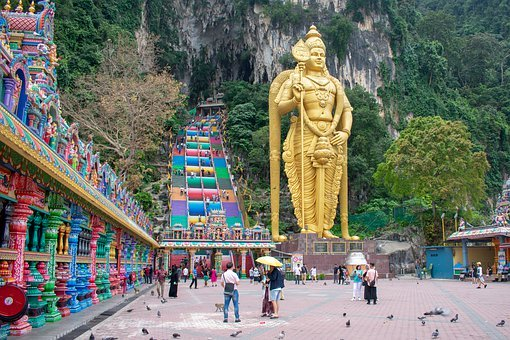Hindu Temple: (265, 17, 352, 238)
